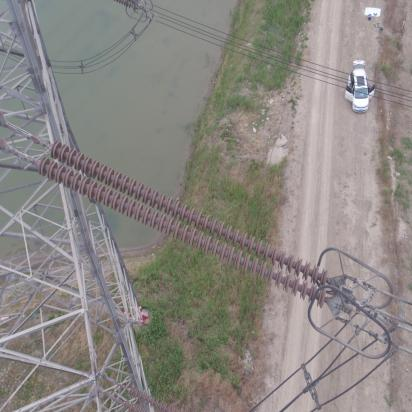insulator: (27, 138, 334, 310)
